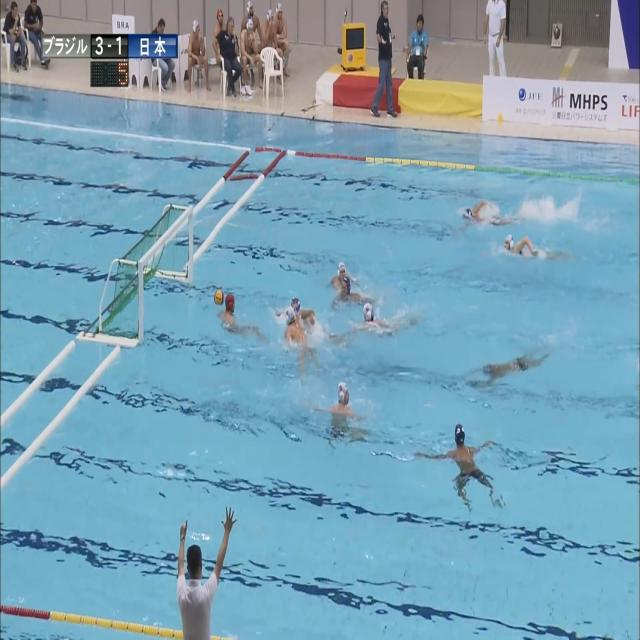ball: (214, 289, 224, 305)
